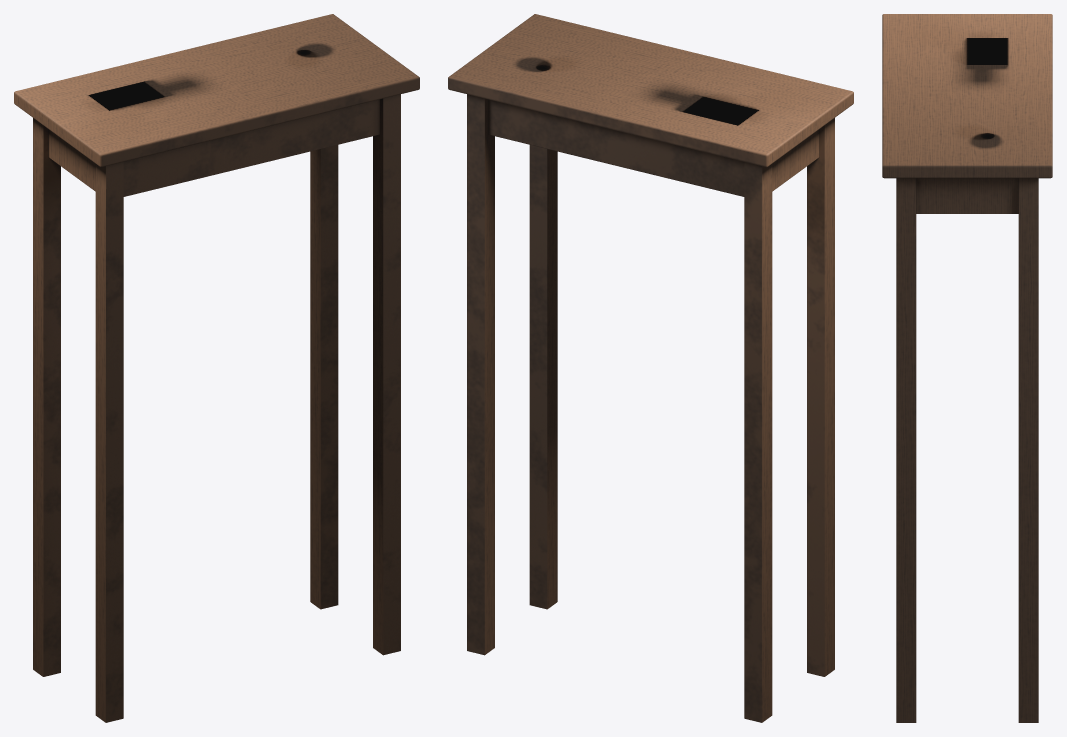
File: 413_metal.glb
The picture shows the model from 3 angles, left to right: view 1: azimuth 30°, elevation 25°; view 2: azimuth 150°, elevation 25°; view 3: azimuth 270°, elevation 25°; orthographic projection. The views are drawn at different scales.
Parts seen in each view (by area): view 1: Table; view 2: Table; view 3: Table.
Boxes of the visible parts, box(x1,y1,x2,y2) form: Table: box(14, 14, 419, 722); Table: box(448, 14, 853, 722); Table: box(882, 14, 1052, 722).
Size of what is drawn, in the model's own units: 1.8 by 3.1 by 0.85.
1 material, 1 textured.
